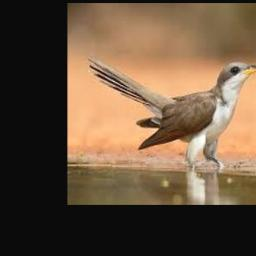Cuckoo: (88, 55, 256, 169)
